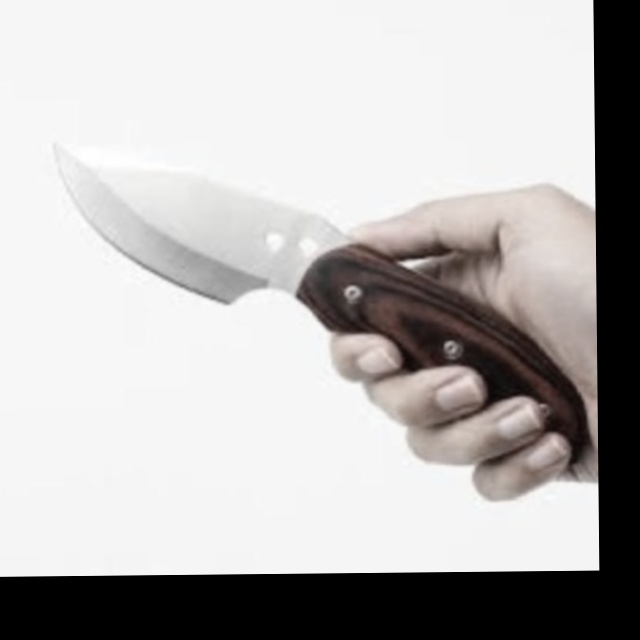Sharp-Object: (52, 138, 586, 472)
